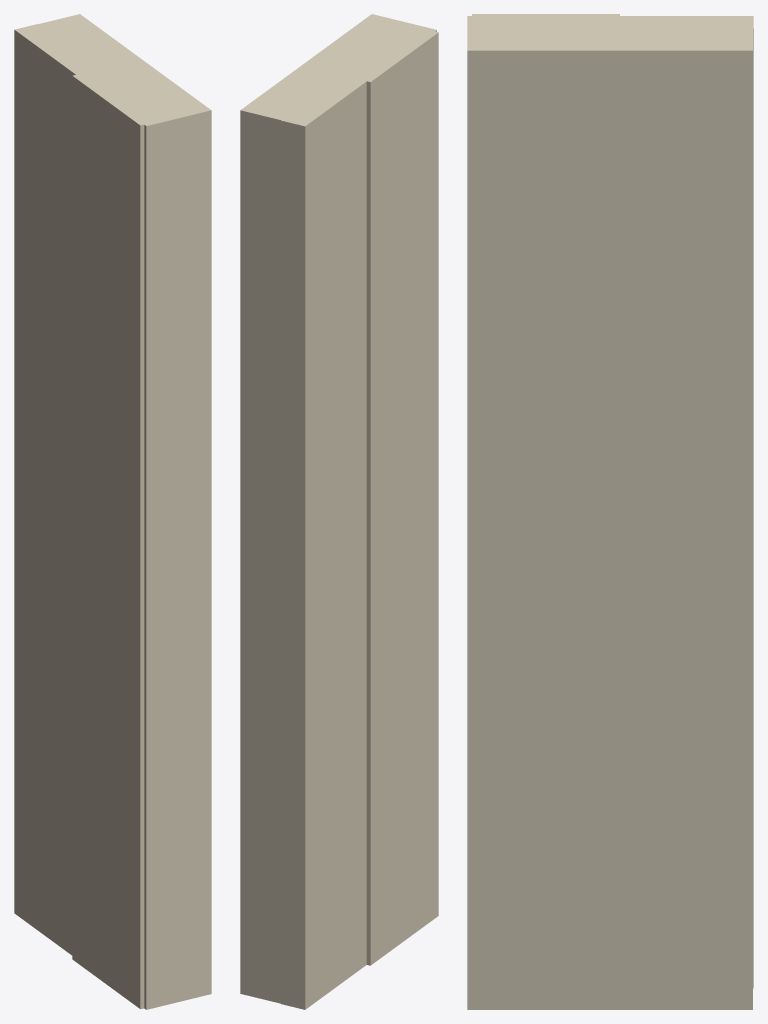
3 renders of one model, left to right at view 1: azimuth 30°, elevation 25°; view 2: azimuth 150°, elevation 25°; view 3: azimuth 270°, elevation 25°, orthographic. The views are drawn at different scales.
Visible parts, largest first — view 1: A-GF-WALL-002; view 2: A-GF-WALL-002; view 3: A-GF-WALL-002.
Part boxes in pixels (x1,y1,x2,y2): A-GF-WALL-002: (14, 14, 211, 1009); A-GF-WALL-002: (240, 14, 438, 1009); A-GF-WALL-002: (467, 14, 753, 1009).
Bounding box in the file's own units: 0.222 × 2.72 × 0.736.
